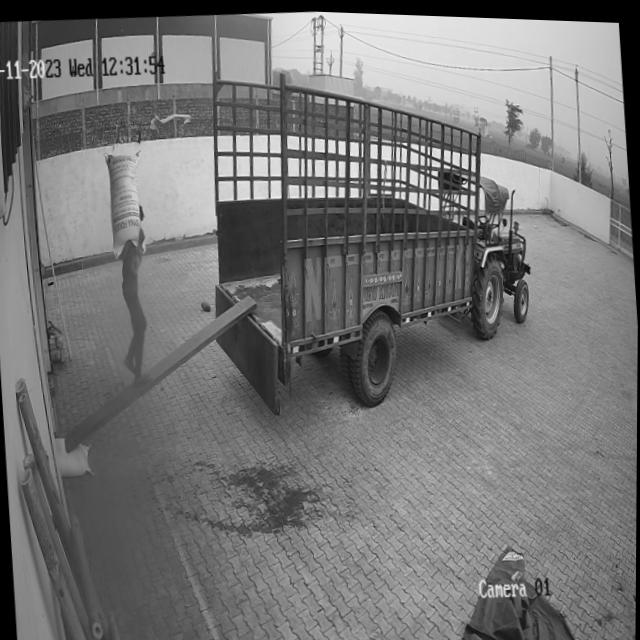sack: (104, 146, 147, 260), (54, 434, 91, 478)
